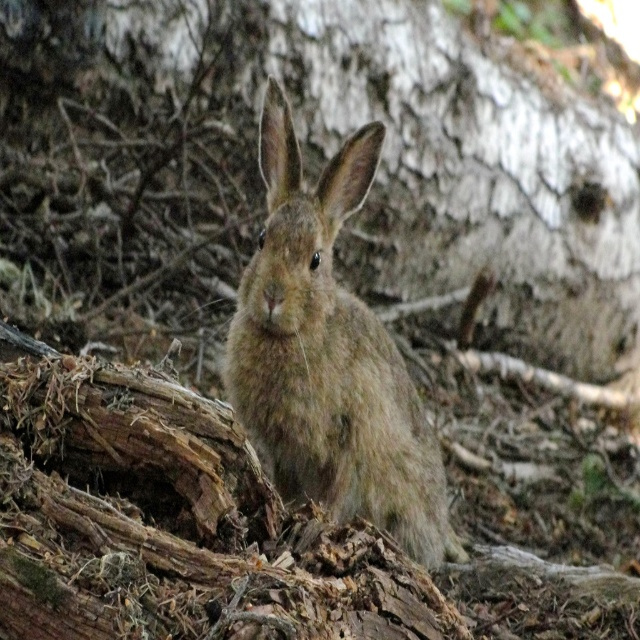Rabbit: (166, 74, 471, 567)
